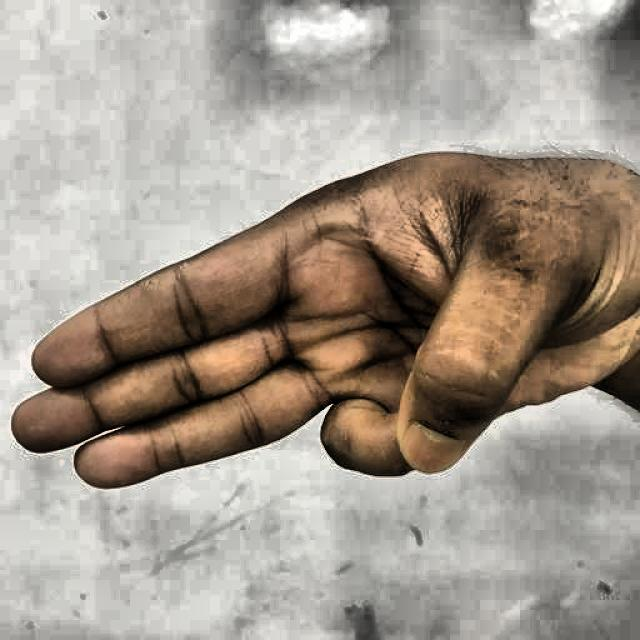Ma: (10, 124, 637, 512)
